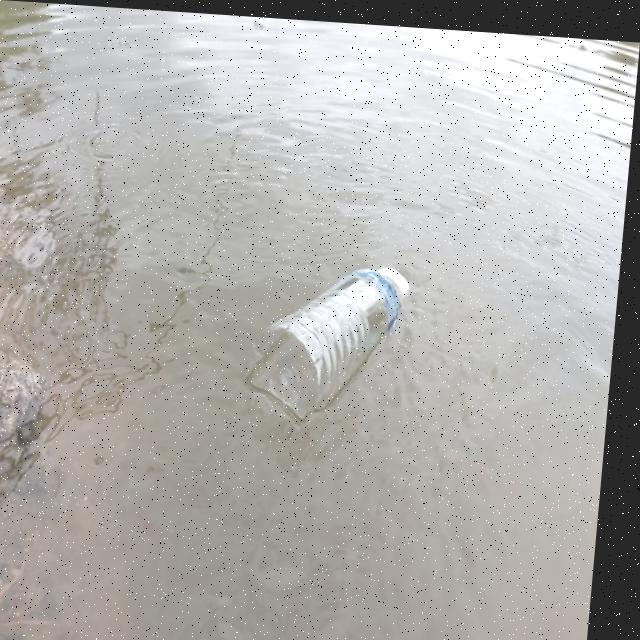waterbottle: (247, 241, 442, 408)
